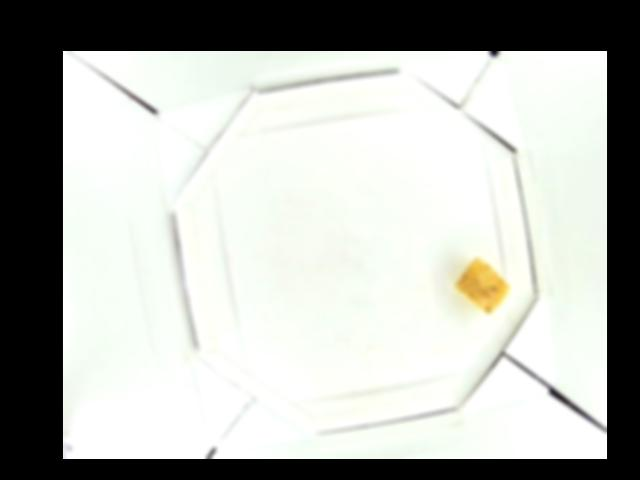Potato: (455, 256, 509, 314)
